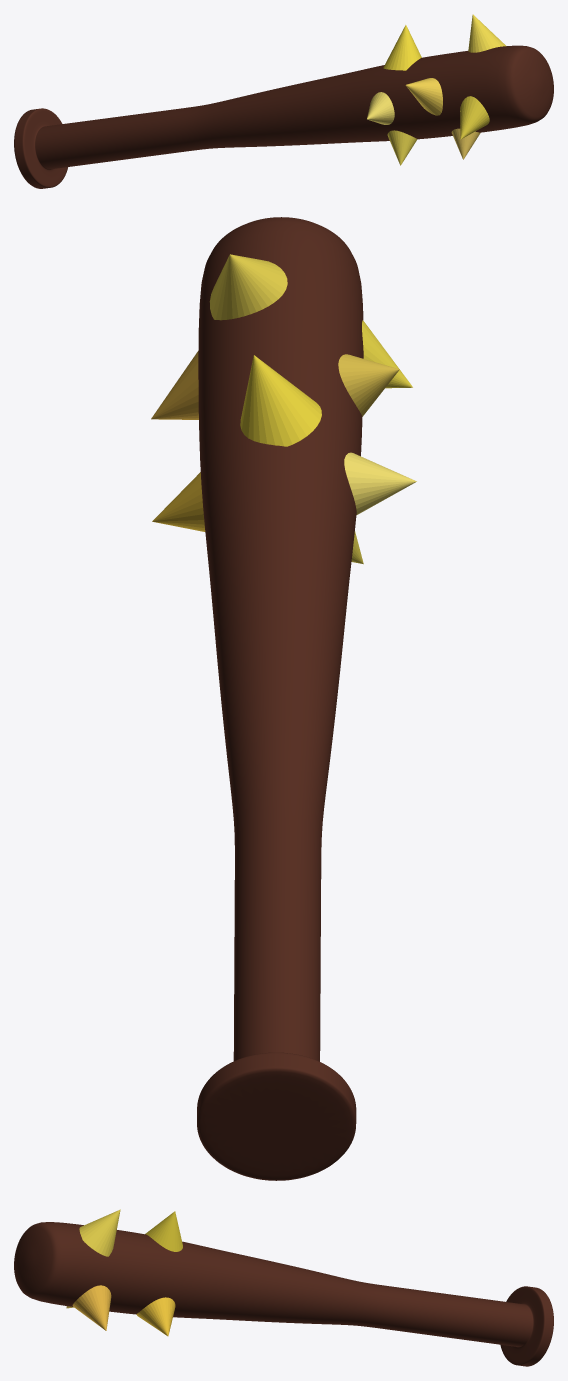
File: tokmak.fbx
The picture shows the model from 3 angles, top to bottom: view 1: azimuth 30°, elevation 25°; view 2: azimuth 150°, elevation 25°; view 3: azimuth 270°, elevation 25°; orthographic projection. The views are drawn at different scales.
Visible parts, largest first — view 1: Cone.004; view 2: Cone.004; view 3: Cone.004.
Part boxes in pixels (x1=…): Cone.004: x1=14, y1=14, x2=553, y2=188; Cone.004: x1=151, y1=217, x2=416, y2=1180; Cone.004: x1=14, y1=1209, x2=553, y2=1366.
Size of the model in its own units: 49.29 by 40.54 by 75.44.
